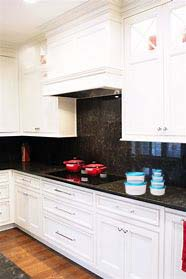copymove: (83, 157, 105, 175)
removal: (18, 45, 37, 66)
spliced: (125, 168, 165, 197)
